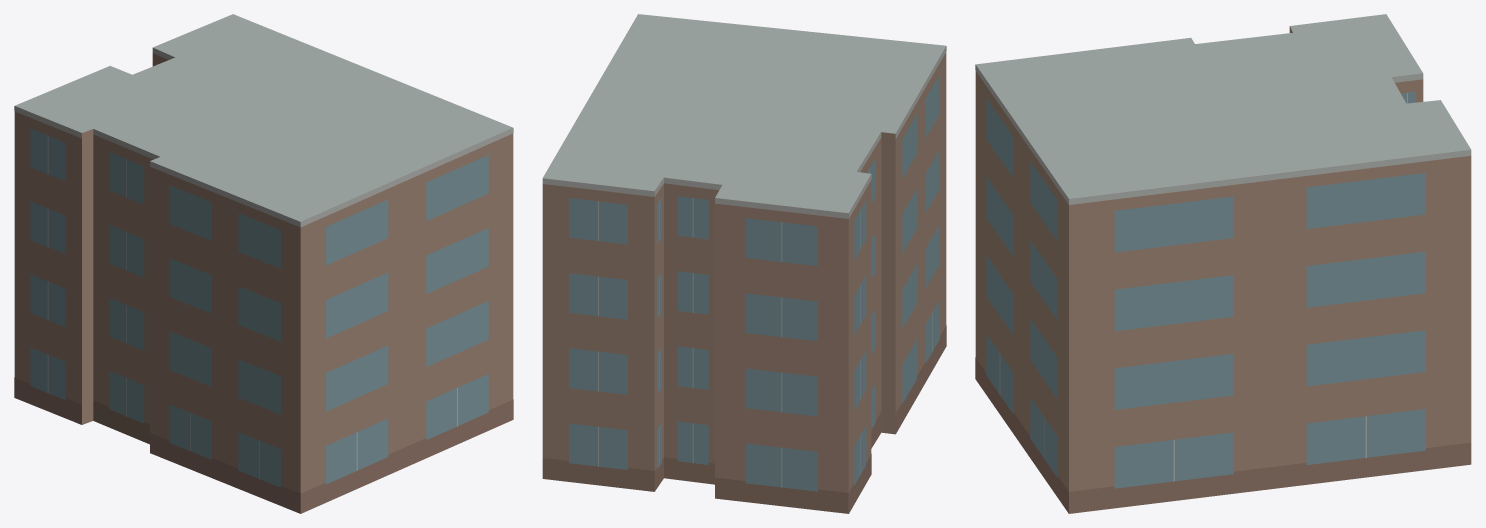
File: survey-upis-32945074.glb
3 renders of one model, left to right at view 1: azimuth 30°, elevation 25°; view 2: azimuth 150°, elevation 25°; view 3: azimuth 270°, elevation 25°, orthographic. The views are drawn at different scales.
Visible parts, largest first — view 1: survey-upis-32945074.tmp; view 2: survey-upis-32945074.tmp; view 3: survey-upis-32945074.tmp.
Boxes of the visible parts, box(x1,y1,x2,y2) form: survey-upis-32945074.tmp: box(14, 14, 513, 513); survey-upis-32945074.tmp: box(542, 14, 946, 513); survey-upis-32945074.tmp: box(975, 14, 1471, 513).
Size of the model in its own units: 16.28 by 12.9 by 18.43.
